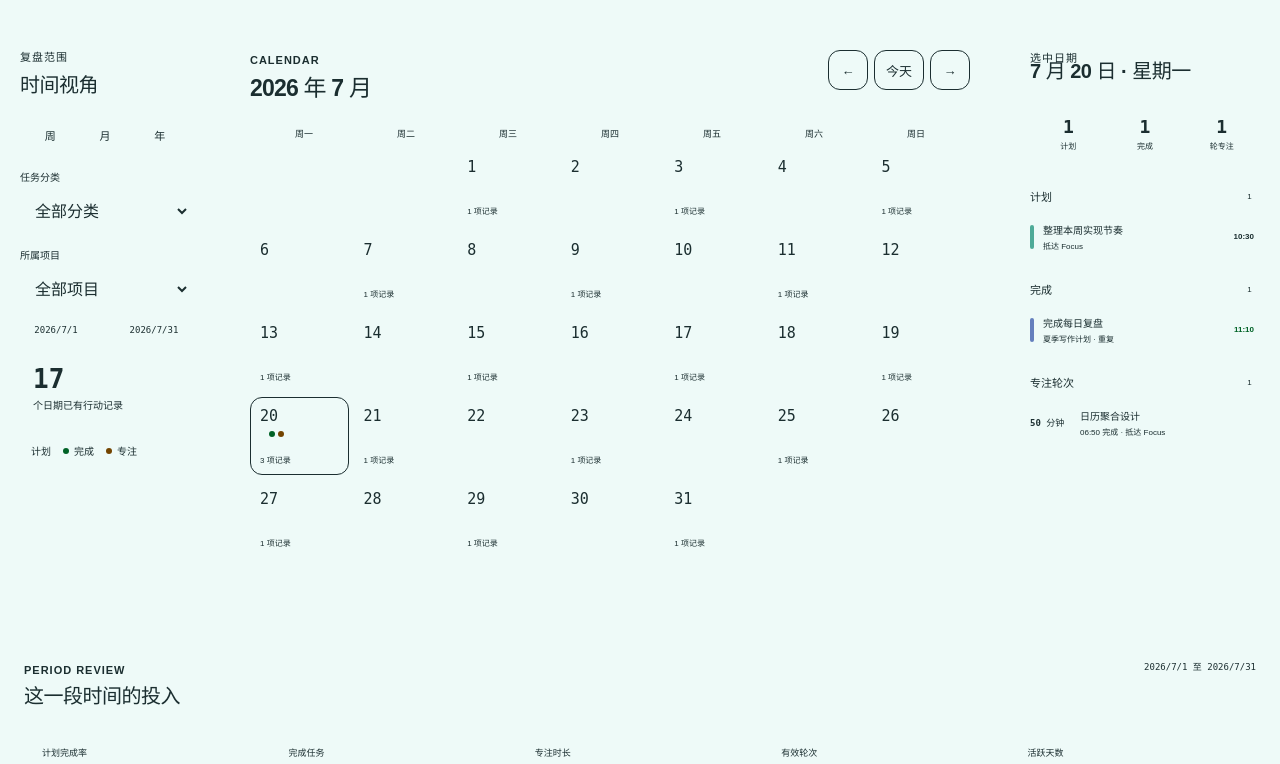
Test: CalendarWorkspace › navigates to the next month and updates the selected date
Click the button named "下一周期" at (950, 70), box 930,50 -> 970,90
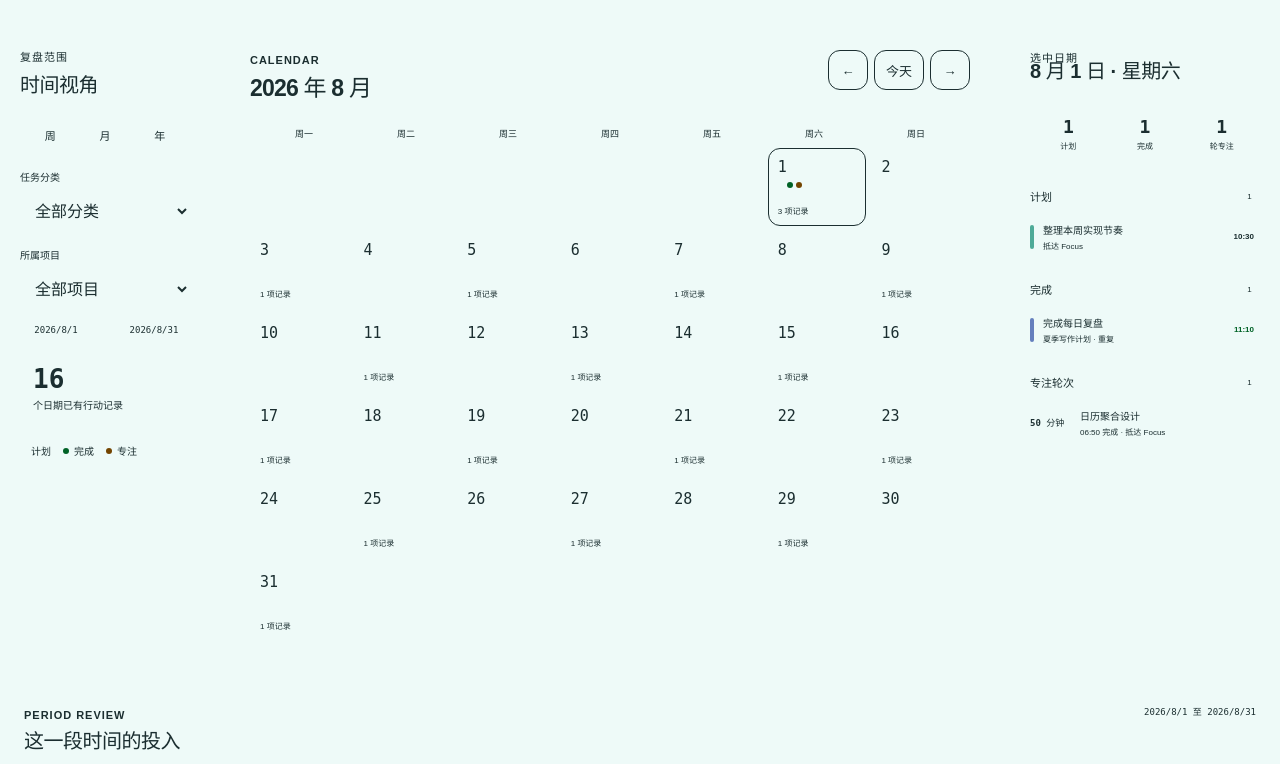
Result: the heading "2026 年 8 月" is shown at 250,73 -> 371,104
Result: the heading "8 月 1 日 · 星期六" is shown at 1030,60 -> 1180,82
